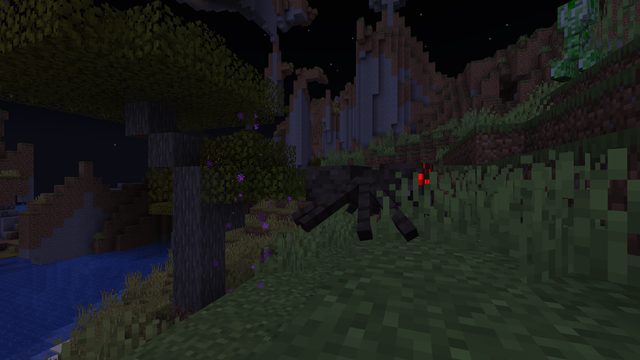araignees: (305, 151, 434, 241)
creepers: (553, 0, 602, 81)
